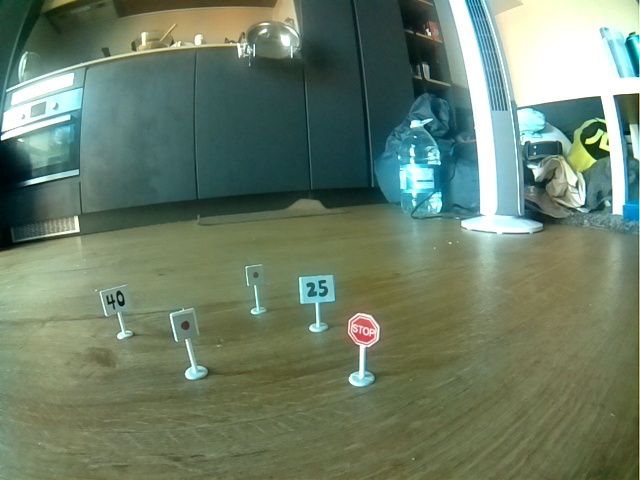red light: (174, 312, 196, 336), (247, 264, 265, 285)
speed 25: (299, 276, 333, 301)
speed 40: (103, 290, 129, 312)
stop: (350, 313, 378, 346)
